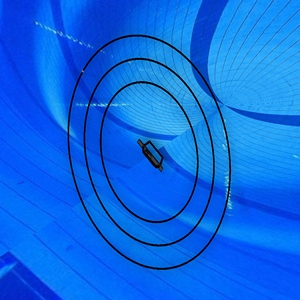circle: (64, 31, 235, 271)
submarine: (136, 136, 177, 177)
